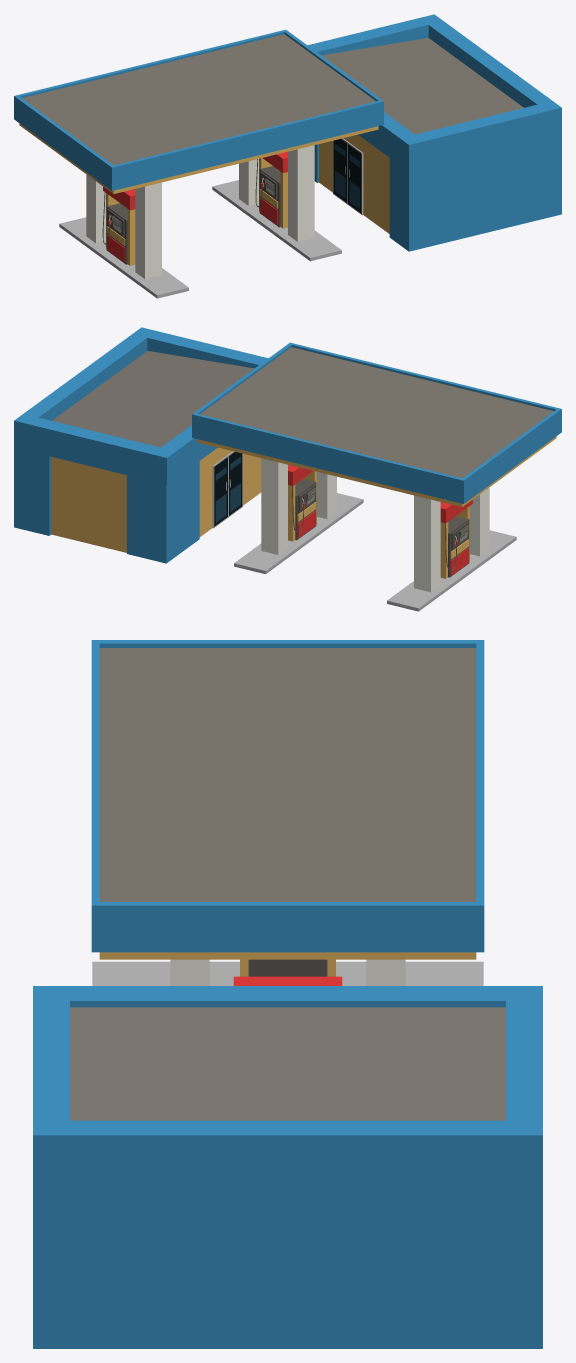
The model's file is Petral Shed.fbx.
The picture shows the model from 3 angles, top to bottom: view 1: azimuth 30°, elevation 25°; view 2: azimuth 150°, elevation 25°; view 3: azimuth 270°, elevation 25°; orthographic projection. The views are drawn at different scales.
Parts seen in each view (by area): view 1: Building_Gas_Station, Building_Gas_Station.012; view 2: Building_Gas_Station, Building_Gas_Station.012; view 3: Building_Gas_Station.012, Building_Gas_Station.
Part boxes in pixels (x1,y1,x2,y2): Building_Gas_Station: [14, 29, 383, 298]; Building_Gas_Station.012: [308, 14, 561, 251]; Building_Gas_Station: [192, 342, 561, 611]; Building_Gas_Station.012: [14, 327, 267, 563]; Building_Gas_Station.012: [33, 986, 542, 1348]; Building_Gas_Station: [91, 640, 484, 985].
Size of the model in its own units: 1343 by 419 by 682.
Materials: 1 (1 with a texture image).
